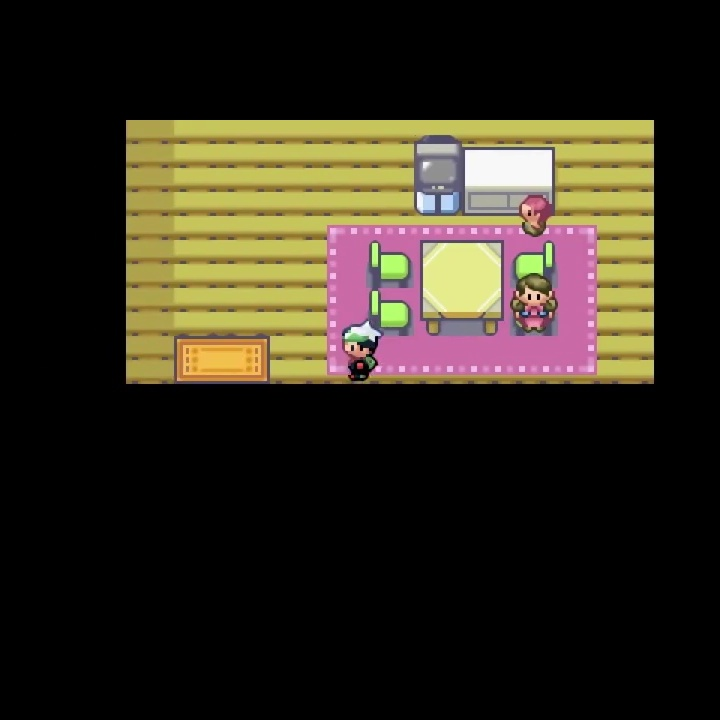exit: (171, 332, 273, 455)
npc: (510, 272, 558, 337), (339, 319, 385, 383), (517, 191, 552, 239)
